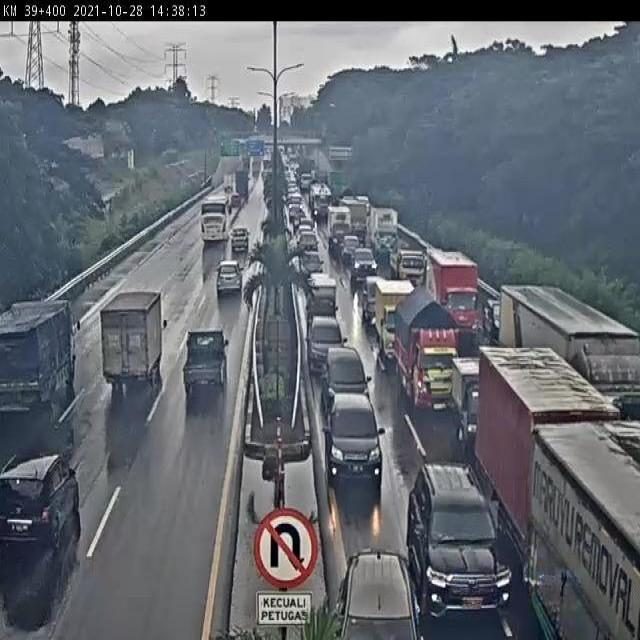big truck: (491, 349, 615, 583), (516, 287, 640, 429), (0, 287, 80, 413), (426, 246, 484, 326)
car: (409, 458, 523, 614), (0, 433, 78, 544), (336, 538, 417, 640), (325, 388, 388, 493), (316, 343, 370, 412), (308, 309, 341, 367), (212, 256, 250, 304), (306, 275, 339, 324), (358, 272, 385, 327), (352, 246, 380, 286), (480, 292, 500, 339), (298, 250, 329, 274), (340, 235, 367, 261)
small truck: (399, 303, 471, 417), (105, 295, 169, 388), (186, 321, 228, 412), (378, 274, 410, 378), (451, 352, 486, 440), (391, 245, 425, 288)
